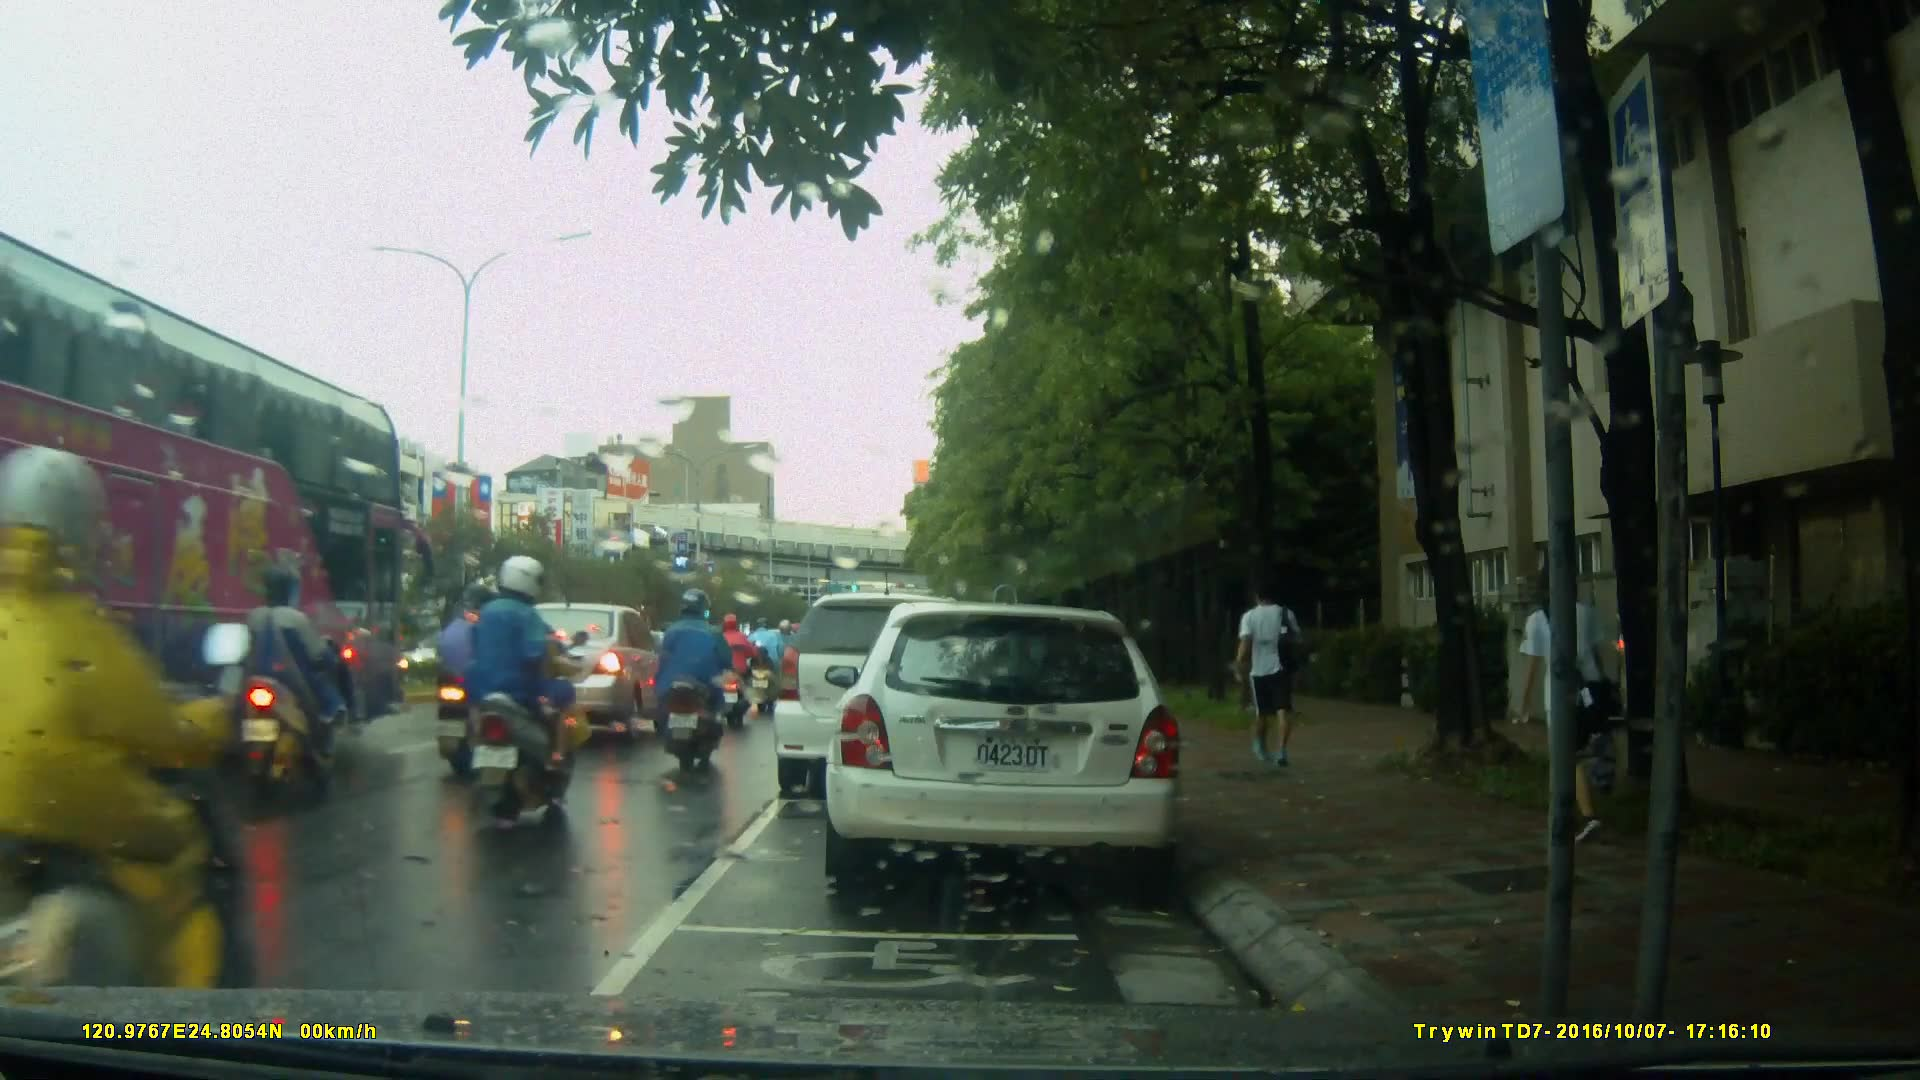pedestrian: (1506, 549, 1604, 839), (1227, 569, 1313, 785)
rider: (1, 451, 247, 1054), (463, 554, 575, 833), (230, 560, 344, 799), (655, 587, 737, 771), (708, 605, 763, 726), (751, 612, 788, 713)
vehicle: (10, 245, 403, 859), (812, 604, 1188, 881), (774, 595, 995, 802), (469, 601, 687, 744)
